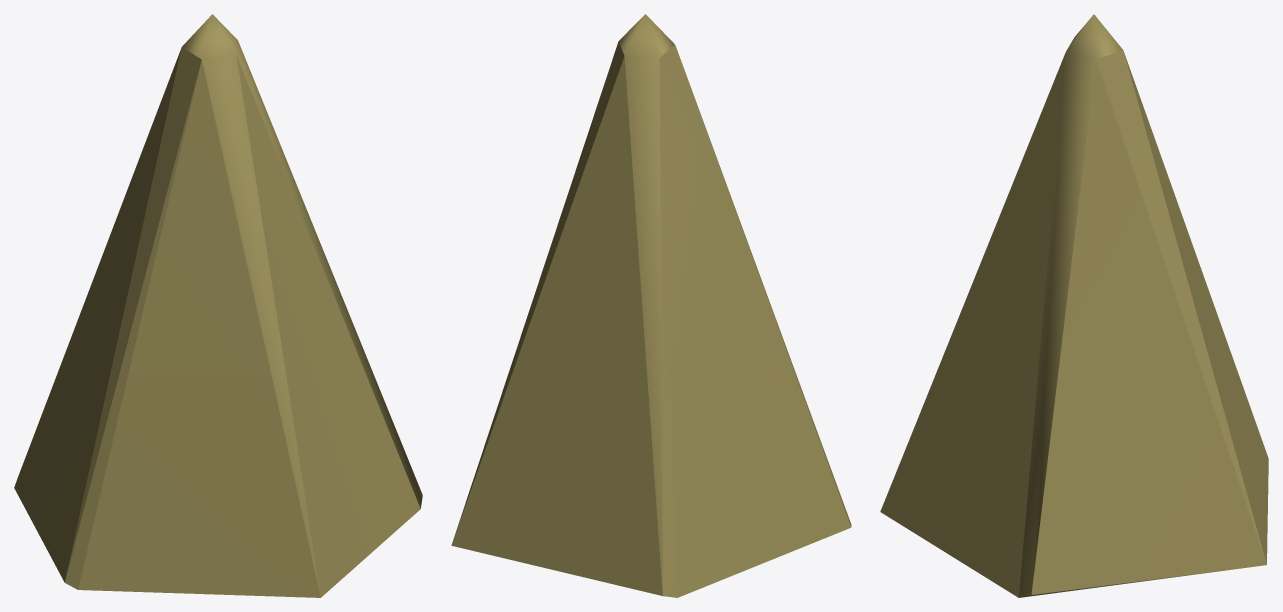
File: prop_fiber_lod2.glb
3 views of the same model, side by side, from view 1: azimuth 30°, elevation 25°; view 2: azimuth 150°, elevation 25°; view 3: azimuth 270°, elevation 25° (orthographic).
Parts seen in each view (by area): view 1: prop_fiber_lod2; view 2: prop_fiber_lod2; view 3: prop_fiber_lod2.
Part boxes in pixels (x1,y1,x2,y2): prop_fiber_lod2: (14,14,422,597); prop_fiber_lod2: (451,14,851,597); prop_fiber_lod2: (880,14,1268,597).
Bounding box in the file's own units: 0.3596 × 0.4892 × 0.3432.
